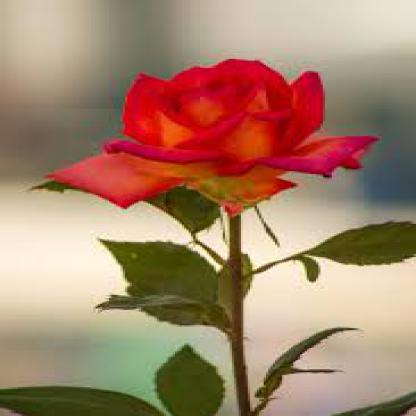Rose-Mawar: (35, 48, 378, 220)
